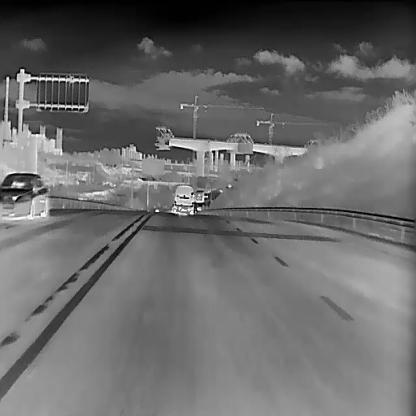car: (0, 172, 47, 218), (172, 183, 193, 214), (195, 190, 204, 202)
